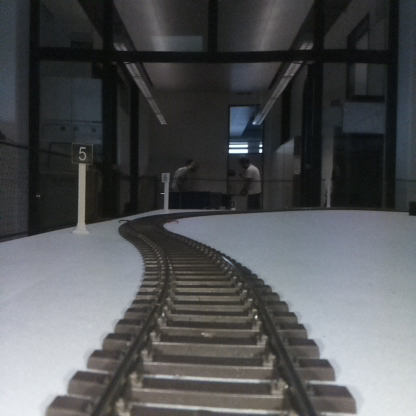black-info-3: (73, 144, 92, 233)
white-info-6: (161, 172, 169, 210)
